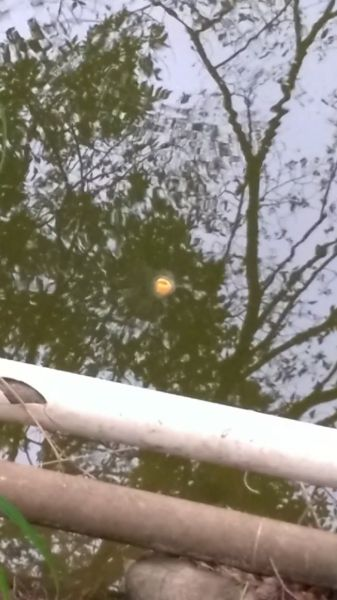eggs: (150, 270, 175, 302)
